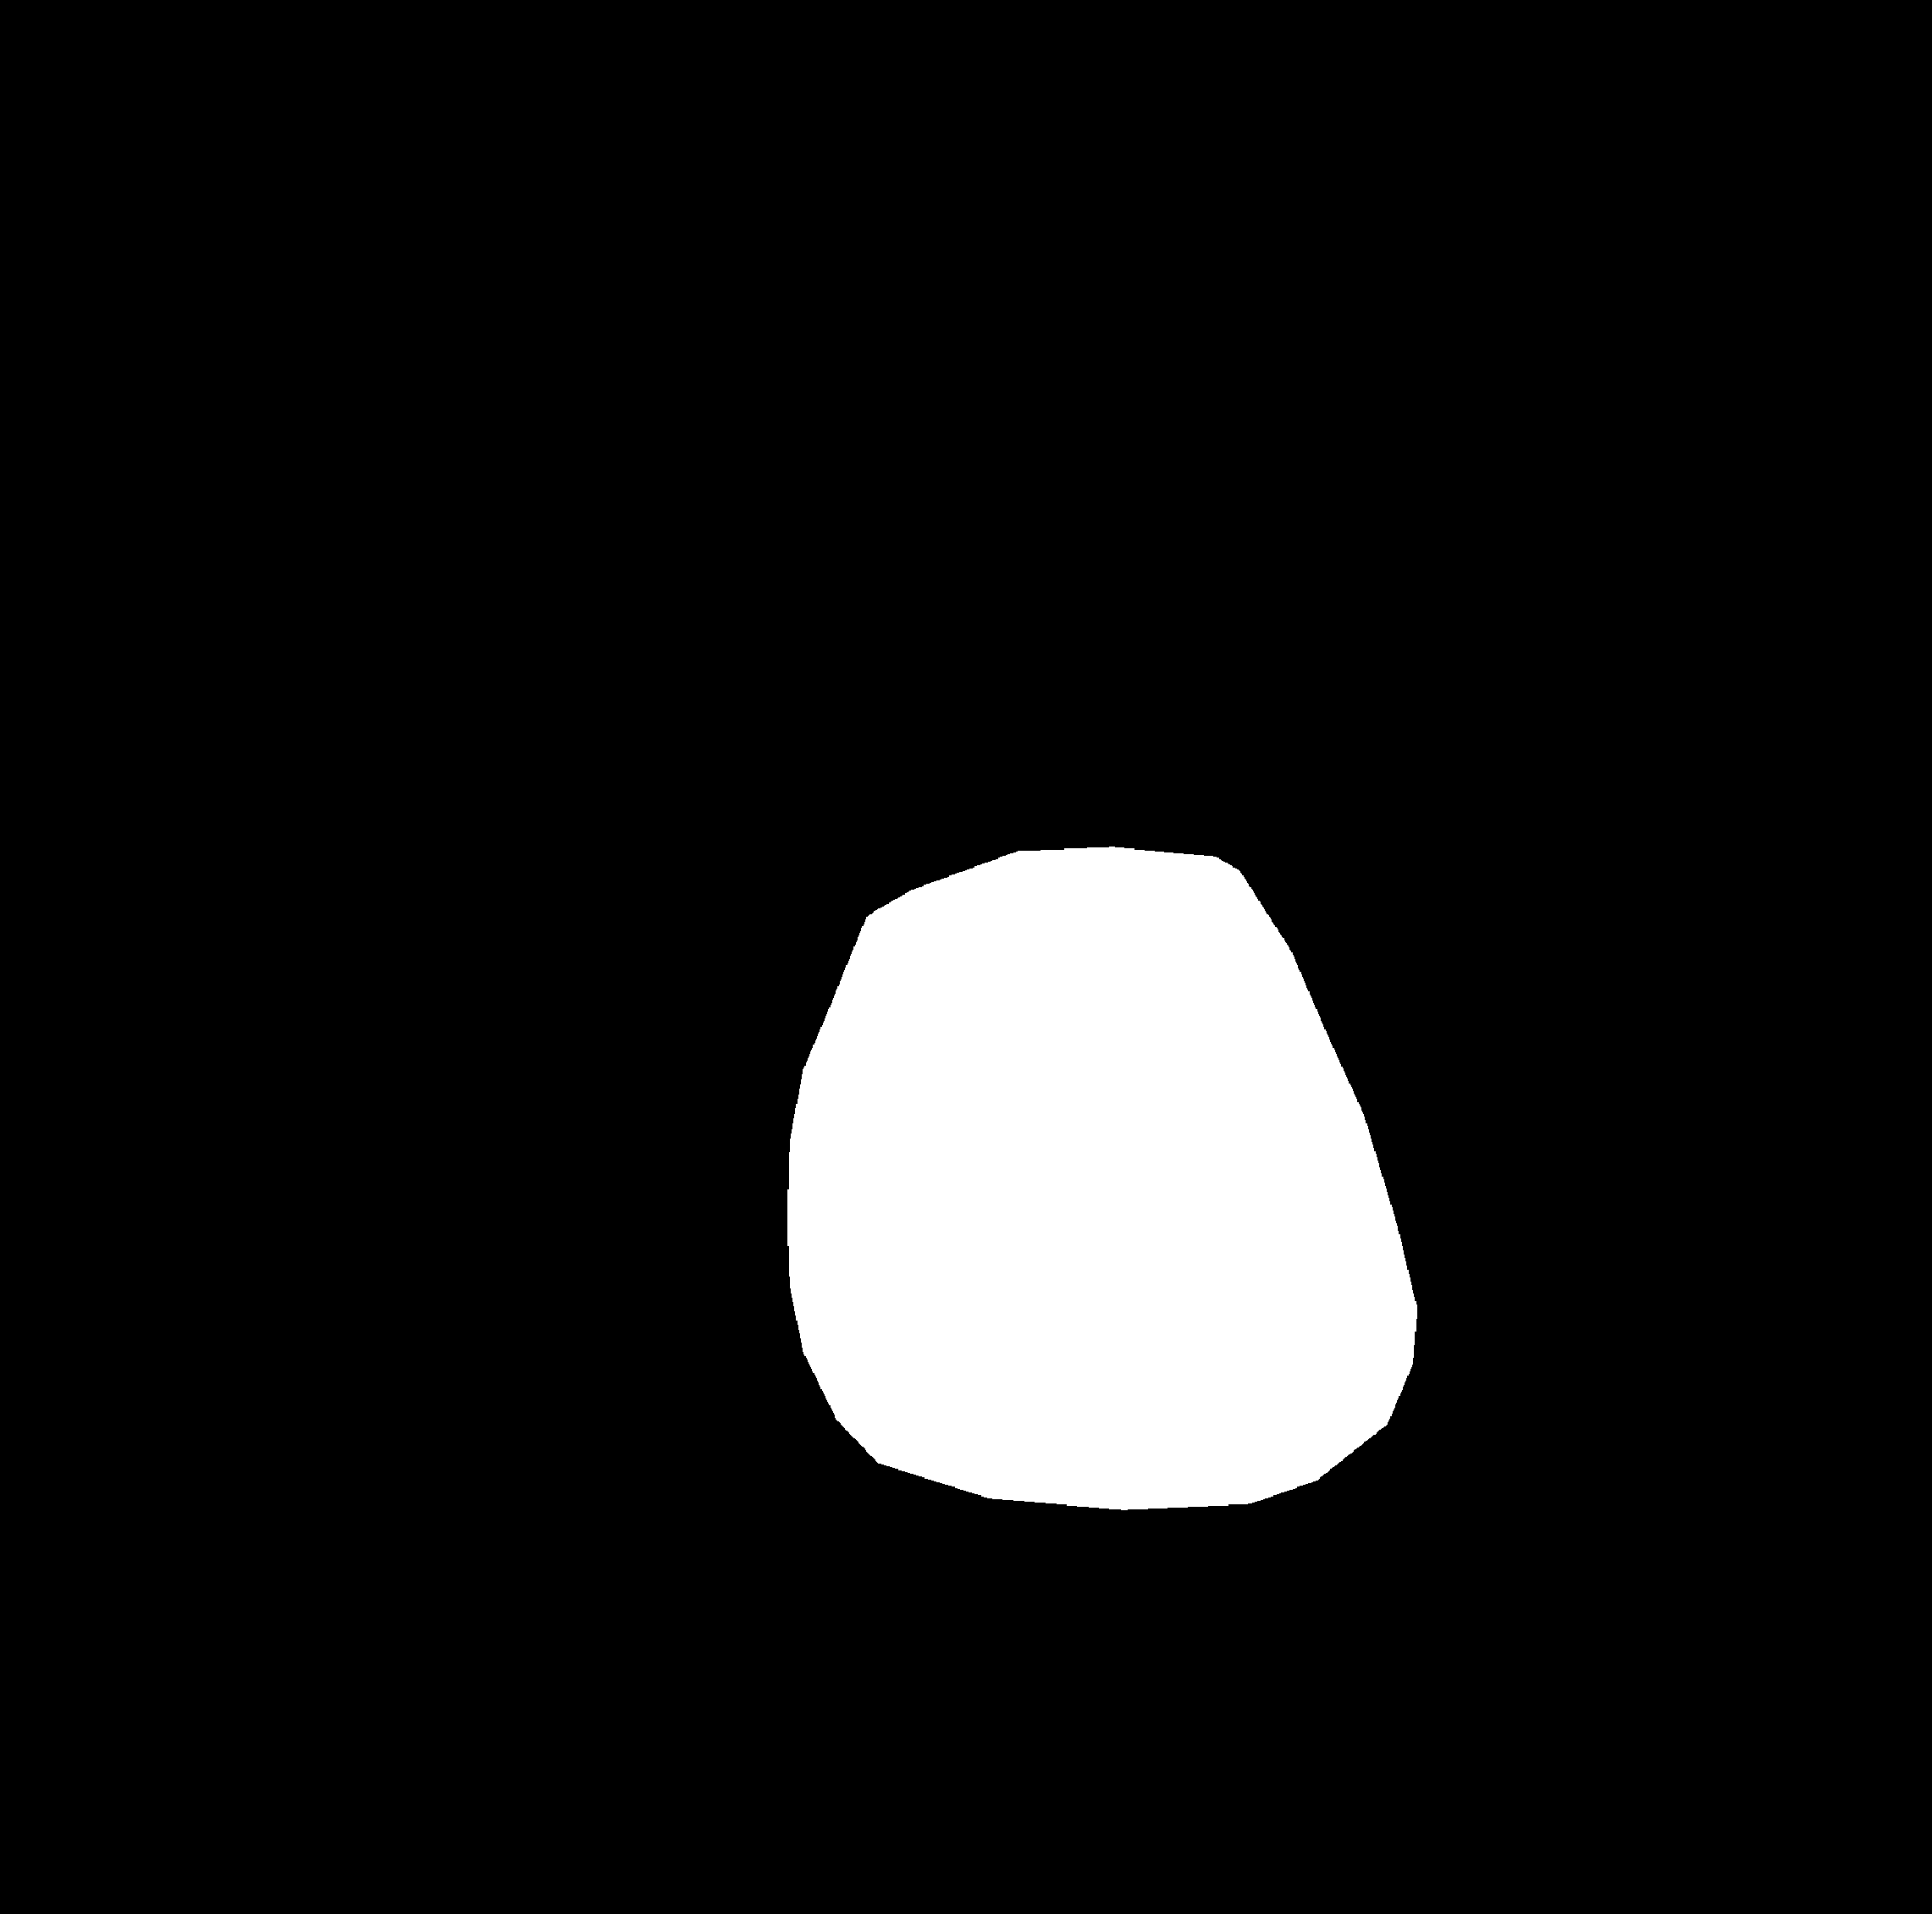heart: (789, 959, 1417, 1502)
left_lung: (237, 65, 892, 1721)
right_lung: (1050, 75, 1725, 1737)
